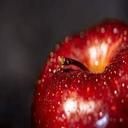apple: (30, 20, 128, 128)
